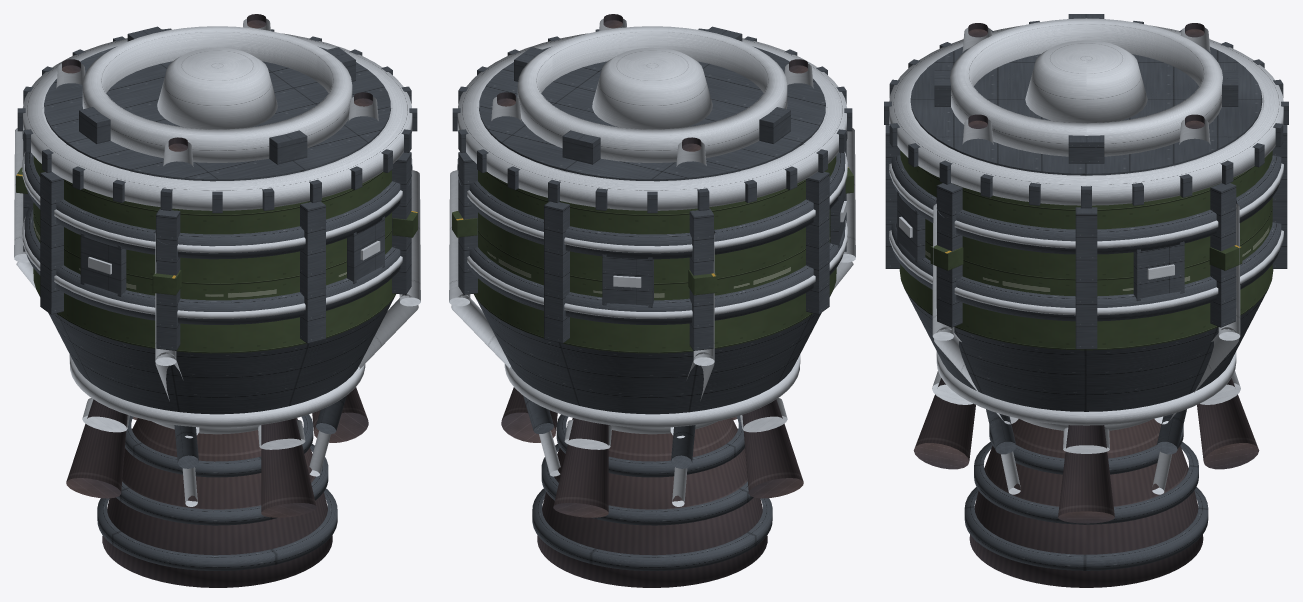
File: heavy_icbm_engine.glb
3 renders of one model, left to right at view 1: azimuth 30°, elevation 25°; view 2: azimuth 150°, elevation 25°; view 3: azimuth 270°, elevation 25°, orthographic.
Visible parts, largest first — view 1: Light_ICBM_Missile; view 2: Light_ICBM_Missile; view 3: Light_ICBM_Missile.
Boxes of the visible parts, x1,y1,x2,y2 form: Light_ICBM_Missile: [14, 14, 420, 587]; Light_ICBM_Missile: [449, 14, 855, 587]; Light_ICBM_Missile: [884, 14, 1288, 587].
Size of the model in its own units: 0.824 by 1.08 by 0.824.
Materials: 4 (4 with a texture image).
